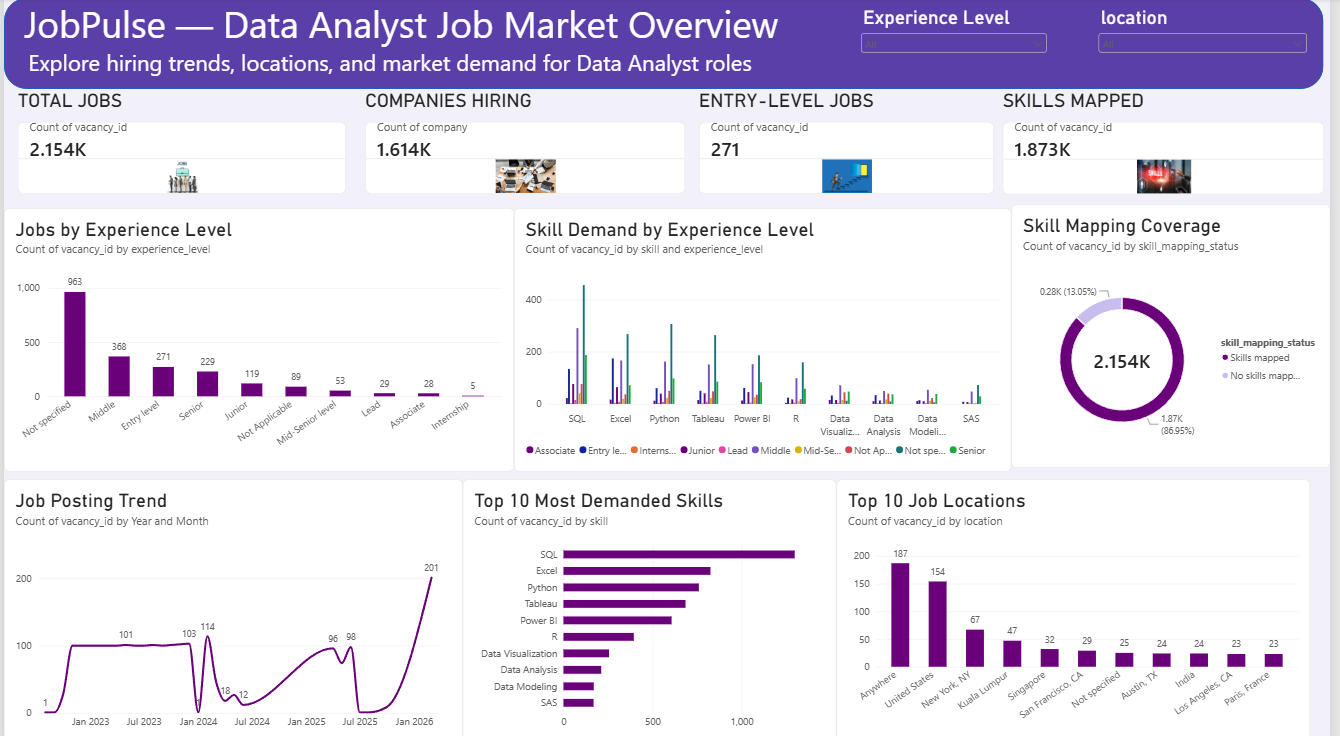

The dashboard page shown, as its layout file describes it:
{"tool":"powerbi","page":{"name":"Page 1","canvas":[1920,1080],"ordinal":0},"visuals":[{"type":"shape","box":[0,0,1910.1,131.7],"z":0},{"type":"textbox","box":[0,0,1911,132.1],"z":1000},{"type":"cardVisual","title":"COMPANIES HIRING","fields":{"Data":["Count(jobpulse1 jobpulse_vacancy_summary.company)"]},"box":[523,132.1,463.3,152],"z":3000},{"type":"cardVisual","title":"ENTRY-LEVEL JOBS","fields":{"Data":["Count(jobpulse1 jobpulse_vacancy_summary.vacancy_id)"]},"box":[1006.2,132.1,427.1,152],"z":4000},{"type":"cardVisual","title":"SKILLS MAPPED","fields":{"Data":["Count(jobpulse1 jobpulse_vacancy_summary.vacancy_id)"]},"box":[1445.9,132.1,465.2,152.3],"z":5000},{"type":"clusteredColumnChart","title":"Jobs by Experience Level","fields":{"Category":["jobpulse1 jobpulse_vacancy_summary.experience_level"],"Y":["CountNonNull(jobpulse1 jobpulse_vacancy_summary.vacancy_id)"]},"box":[0,304,738.3,381.8],"z":6000},{"type":"clusteredColumnChart","title":"Top 10 Job Locations","fields":{"Category":["jobpulse1 jobpulse_vacancy_summary.location"],"Y":["Count(jobpulse1 jobpulse_vacancy_summary.vacancy_id)"]},"box":[1205.2,696.7,685.9,383.6],"z":7000},{"type":"lineChart","title":"Job Posting Trend","fields":{"Category":["jobpulse1 jobpulse_vacancy_summary.published_at.Variation.Date Hierarchy.Year","jobpulse1 jobpulse_vacancy_summary.published_at.Variation.Date Hierarchy.Month"],"Y":["CountNonNull(jobpulse1 jobpulse_vacancy_summary.vacancy_id)"]},"box":[0,696.7,664.1,383.6],"z":8000},{"type":"slicer","fields":{"Values":["jobpulse1 jobpulse_vacancy_summary.experience_level"]},"box":[1236,12.7,278.7,105],"z":9000},{"type":"slicer","fields":{"Values":["jobpulse1 jobpulse_vacancy_summary.location"]},"box":[1579.8,12.7,311.3,81.4],"z":10000},{"type":"donutChart","title":"Skill Mapping Coverage","fields":{"Category":["jobpulse1 jobpulse_vacancy_summary.skill_mapping_status"],"Y":["Count(jobpulse1 jobpulse_vacancy_summary.vacancy_id)"]},"box":[1458.6,298.6,461.5,381.8],"z":11000},{"type":"clusteredBarChart","title":"Top 10 Most Demanded Skills","fields":{"Category":["jobpulse1 jobpulse_skill_demand.skill"],"Y":["Count(jobpulse1 jobpulse_skill_demand.vacancy_id)"]},"box":[664.1,696.7,541.1,383.6],"z":12000},{"type":"clusteredColumnChart","title":"Skill Demand by Experience Level","fields":{"Category":["jobpulse1 jobpulse_skill_demand.skill"],"Series":["jobpulse1 jobpulse_skill_demand.experience_level"],"Y":["Count(jobpulse1 jobpulse_skill_demand.vacancy_id)"]},"box":[738.3,304,720.2,381.8],"z":13000},{"type":"cardVisual","title":"TOTAL JOBS","fields":{"Data":["Count(jobpulse1 jobpulse_vacancy_summary.vacancy_id)"]},"box":[19.9,132.1,475.9,152],"z":13001}]}

Visuals, with their boxes in screenshot pixels (x1, y1, x2, y2), scaled from the page's 1920x1080 canvas onto the 1340x736 screenshot:
shape: [left=0, top=0, right=1333, bottom=90]
textbox: [left=0, top=0, right=1334, bottom=90]
"COMPANIES HIRING" cardVisual: [left=365, top=90, right=688, bottom=194]
"ENTRY-LEVEL JOBS" cardVisual: [left=702, top=90, right=1000, bottom=194]
"SKILLS MAPPED" cardVisual: [left=1009, top=90, right=1334, bottom=194]
"Jobs by Experience Level" clusteredColumnChart: [left=0, top=207, right=515, bottom=467]
"Top 10 Job Locations" clusteredColumnChart: [left=841, top=475, right=1320, bottom=735]
"Job Posting Trend" lineChart: [left=0, top=475, right=463, bottom=735]
slicer - jobpulse1 jobpulse_vacancy_summary.experience_level: [left=863, top=9, right=1057, bottom=80]
slicer - jobpulse1 jobpulse_vacancy_summary.location: [left=1103, top=9, right=1320, bottom=64]
"Skill Mapping Coverage" donutChart: [left=1018, top=203, right=1339, bottom=464]
"Top 10 Most Demanded Skills" clusteredBarChart: [left=463, top=475, right=841, bottom=735]
"Skill Demand by Experience Level" clusteredColumnChart: [left=515, top=207, right=1018, bottom=467]
"TOTAL JOBS" cardVisual: [left=14, top=90, right=346, bottom=194]
